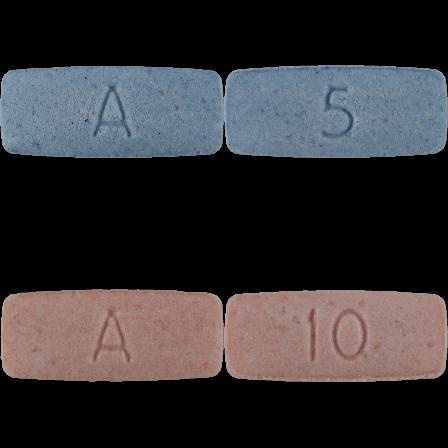60429-447: (0, 0, 224, 224)
